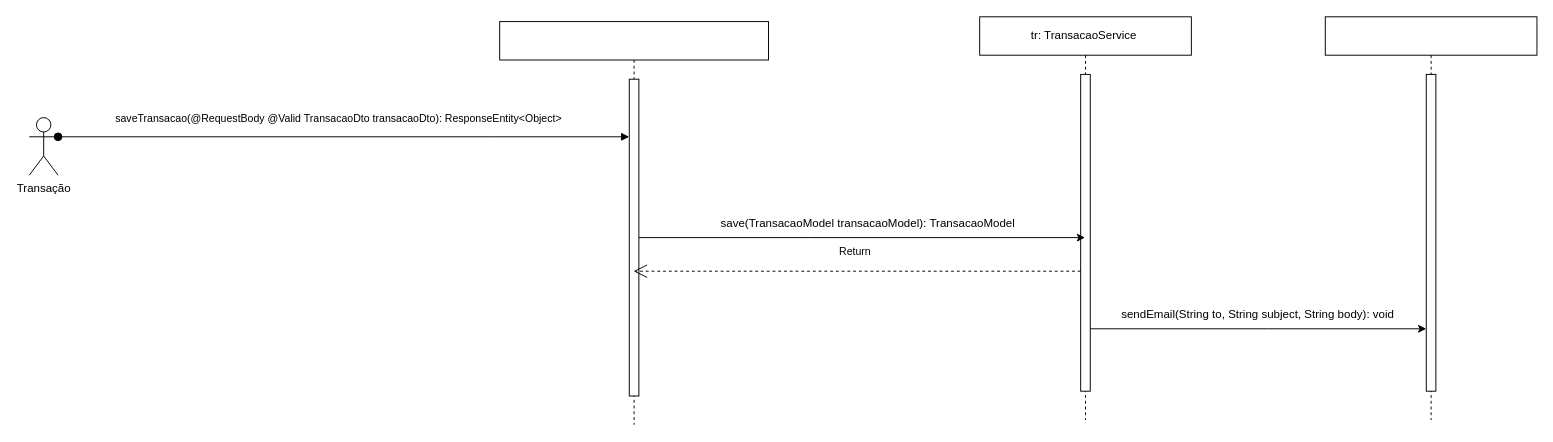
Image size: 1553x442. Some labels were removed from this diagram. Here are the shapes that lost their labels. From the top down, the box of each, then its label:
(499, 21, 768, 425): tr: TransacaoController
(1324, 16, 1537, 420): alunEmail: EmailService
